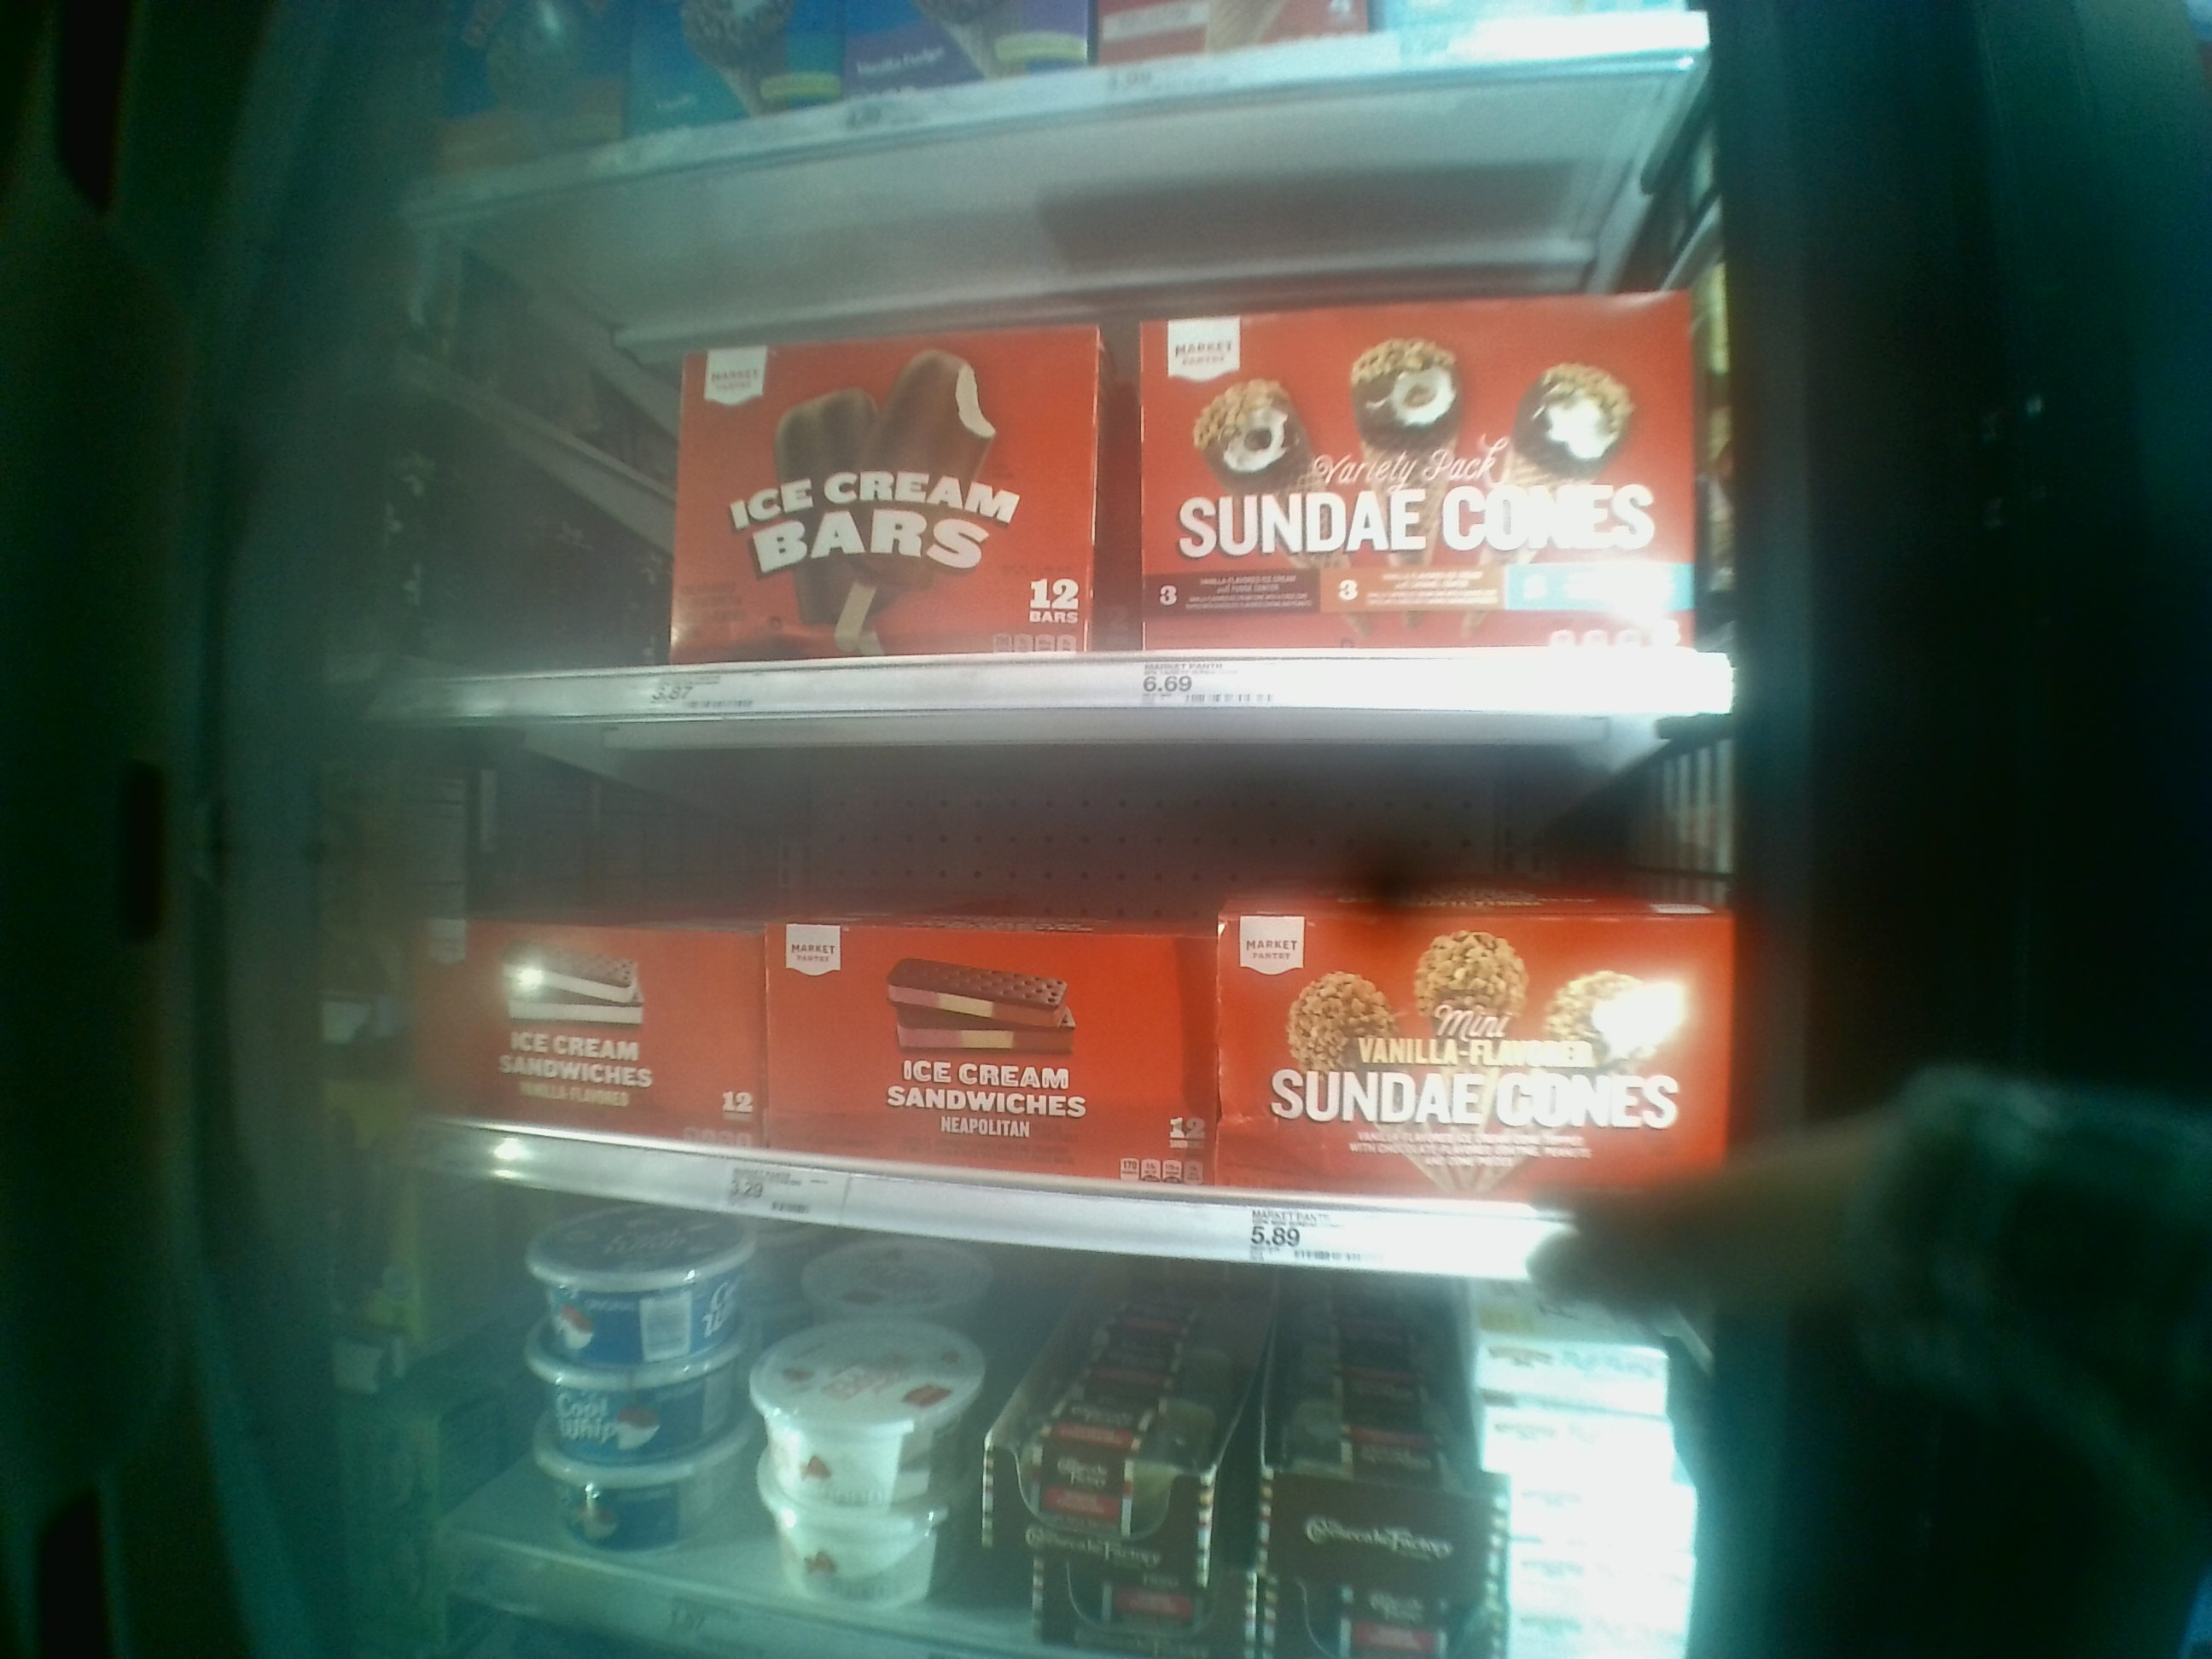frozen-food-shelf: (340, 727, 1764, 1279), (341, 239, 1754, 721)
